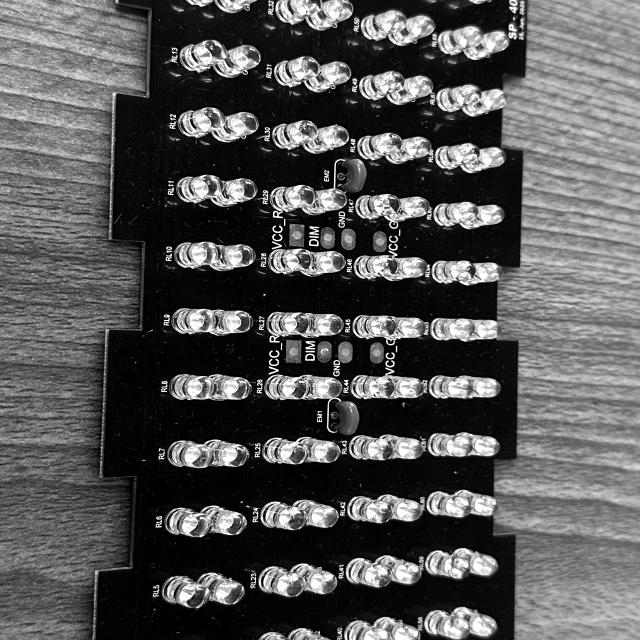EMC filter: (328, 401, 360, 435), (336, 158, 367, 192)
led: (168, 371, 220, 404), (195, 571, 244, 606), (291, 497, 340, 532), (256, 565, 304, 600), (163, 506, 213, 539), (387, 14, 435, 48), (260, 373, 312, 404), (171, 305, 223, 336), (425, 549, 469, 585), (208, 305, 256, 338), (272, 55, 320, 88), (384, 73, 433, 105), (270, 117, 316, 151), (362, 9, 408, 43), (376, 554, 424, 586), (262, 435, 310, 467), (180, 39, 226, 72), (199, 504, 246, 536), (451, 488, 498, 520), (455, 429, 502, 461), (306, 0, 354, 31), (422, 606, 467, 639), (219, 44, 260, 80), (159, 575, 205, 607), (438, 25, 484, 57), (166, 440, 215, 470), (260, 500, 307, 531), (297, 372, 344, 403), (175, 173, 222, 204), (464, 90, 516, 118), (292, 562, 336, 595), (310, 61, 354, 94), (434, 83, 484, 112), (450, 546, 498, 576), (216, 112, 261, 144), (376, 492, 422, 523), (173, 240, 219, 271), (215, 177, 261, 208), (306, 125, 352, 156), (466, 31, 512, 62), (378, 431, 422, 463), (209, 370, 253, 402), (179, 107, 224, 138), (204, 439, 250, 469), (360, 70, 406, 100), (453, 606, 497, 637), (267, 308, 312, 338), (425, 488, 467, 520), (356, 131, 402, 160), (346, 557, 390, 587), (295, 436, 339, 466), (458, 373, 503, 402), (349, 374, 397, 401), (349, 433, 393, 462), (428, 431, 473, 459), (302, 308, 344, 338), (271, 182, 313, 212), (455, 316, 503, 342), (267, 248, 315, 274), (381, 371, 424, 400), (348, 496, 392, 524), (358, 192, 398, 222), (430, 258, 474, 285), (306, 188, 348, 216), (434, 200, 476, 228), (391, 135, 433, 163), (213, 243, 256, 270), (273, 0, 321, 24), (437, 142, 478, 170), (428, 375, 472, 401), (431, 317, 475, 343), (466, 202, 507, 229), (375, 616, 421, 640), (355, 255, 398, 280), (342, 618, 390, 640), (465, 148, 508, 172), (465, 260, 504, 286), (308, 252, 346, 278), (390, 196, 431, 220), (391, 314, 426, 342), (355, 314, 398, 336), (396, 257, 428, 282), (291, 623, 335, 640), (215, 0, 263, 13), (256, 629, 305, 640)
